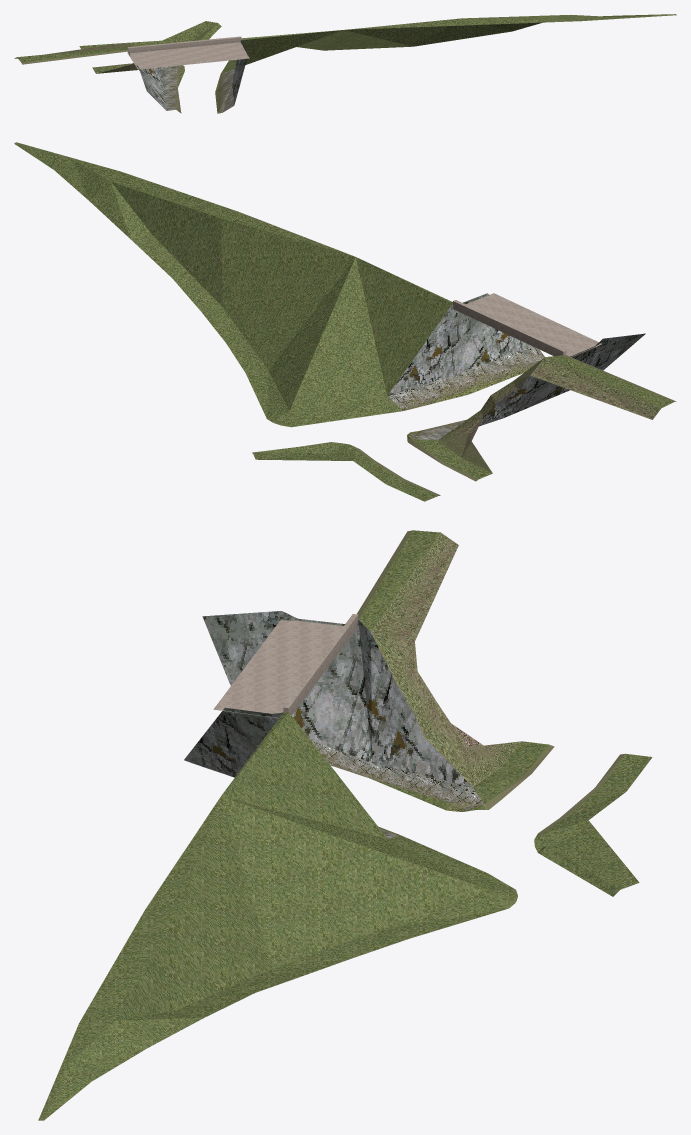
Rendered from lodcs07.obj.
3 renders of one model, top to bottom at view 1: azimuth 30°, elevation 25°; view 2: azimuth 150°, elevation 25°; view 3: azimuth 270°, elevation 25°, orthographic. The views are drawn at different scales.
Parts seen in each view (by area): view 1: LODcs07; view 2: LODcs07; view 3: LODcs07.
Boxes of the visible parts, <box> form: LODcs07: <box>14,14,676,113</box>; LODcs07: <box>14,142,676,501</box>; LODcs07: <box>38,530,652,1120</box>.
Bounding box in the file's own units: 230 × 25.07 × 109.
6 materials, 6 textured.
